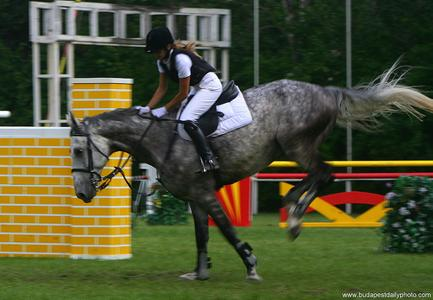person: (133, 26, 226, 175)
